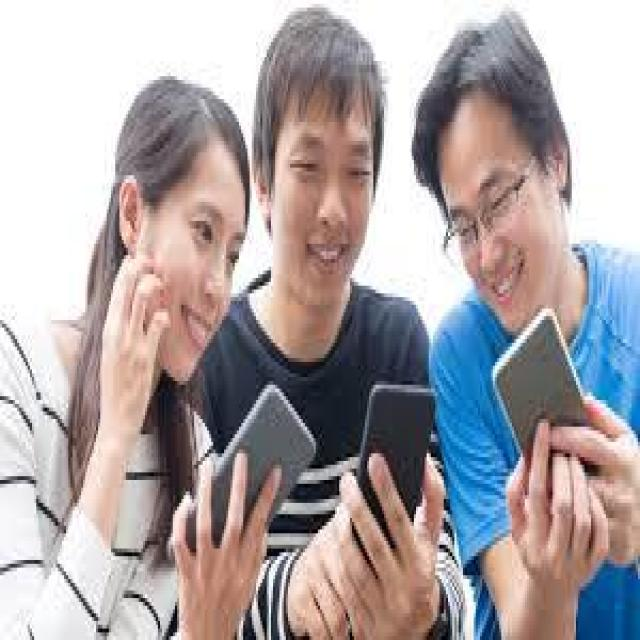phone: (170, 384, 318, 567), (492, 306, 595, 500), (353, 380, 438, 545)
